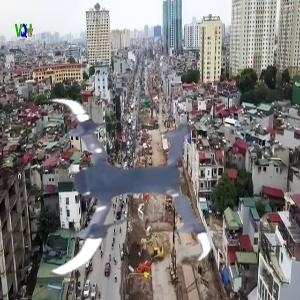drone: (9, 83, 213, 287)
